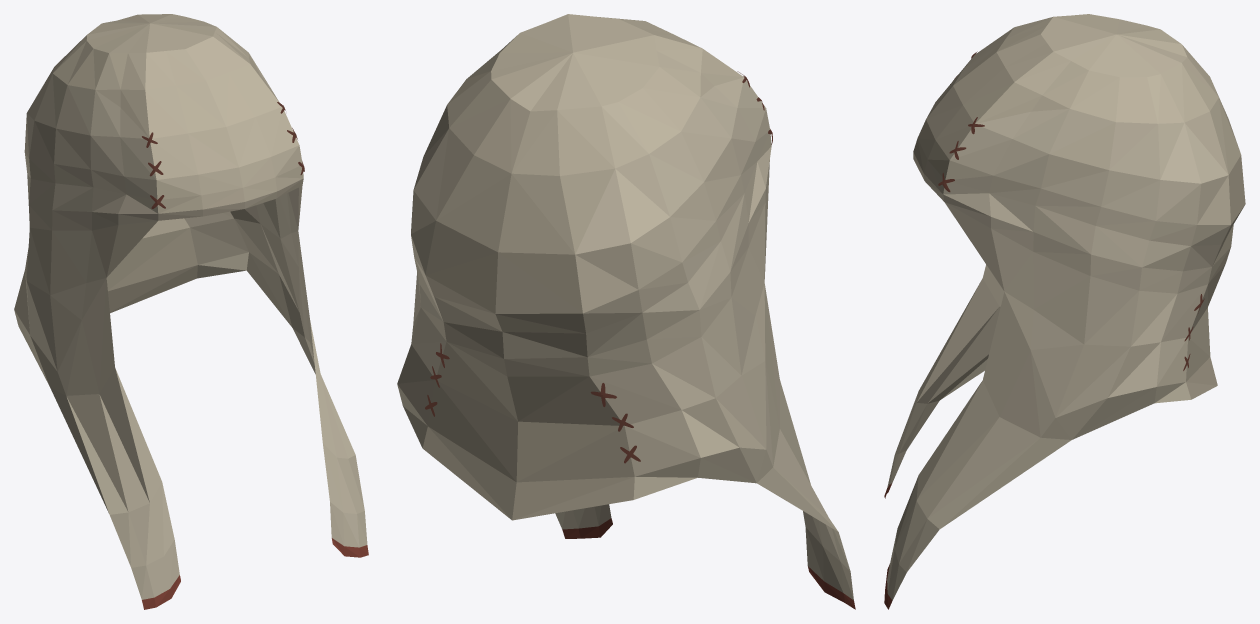
Rendered from peasantManHatLong.glb.
The picture shows the model from 3 angles, left to right: view 1: azimuth 30°, elevation 25°; view 2: azimuth 150°, elevation 25°; view 3: azimuth 270°, elevation 25°; orthographic projection. The views are drawn at different scales.
Visible parts, largest first — view 1: peasantManHatLong; view 2: peasantManHatLong; view 3: peasantManHatLong.
Part boxes in pixels (x1,y1,x2,y2): peasantManHatLong: (14, 14, 368, 609); peasantManHatLong: (397, 14, 855, 609); peasantManHatLong: (884, 14, 1245, 609).
Bounding box in the file's own units: 0.284 × 0.525 × 0.3325.
